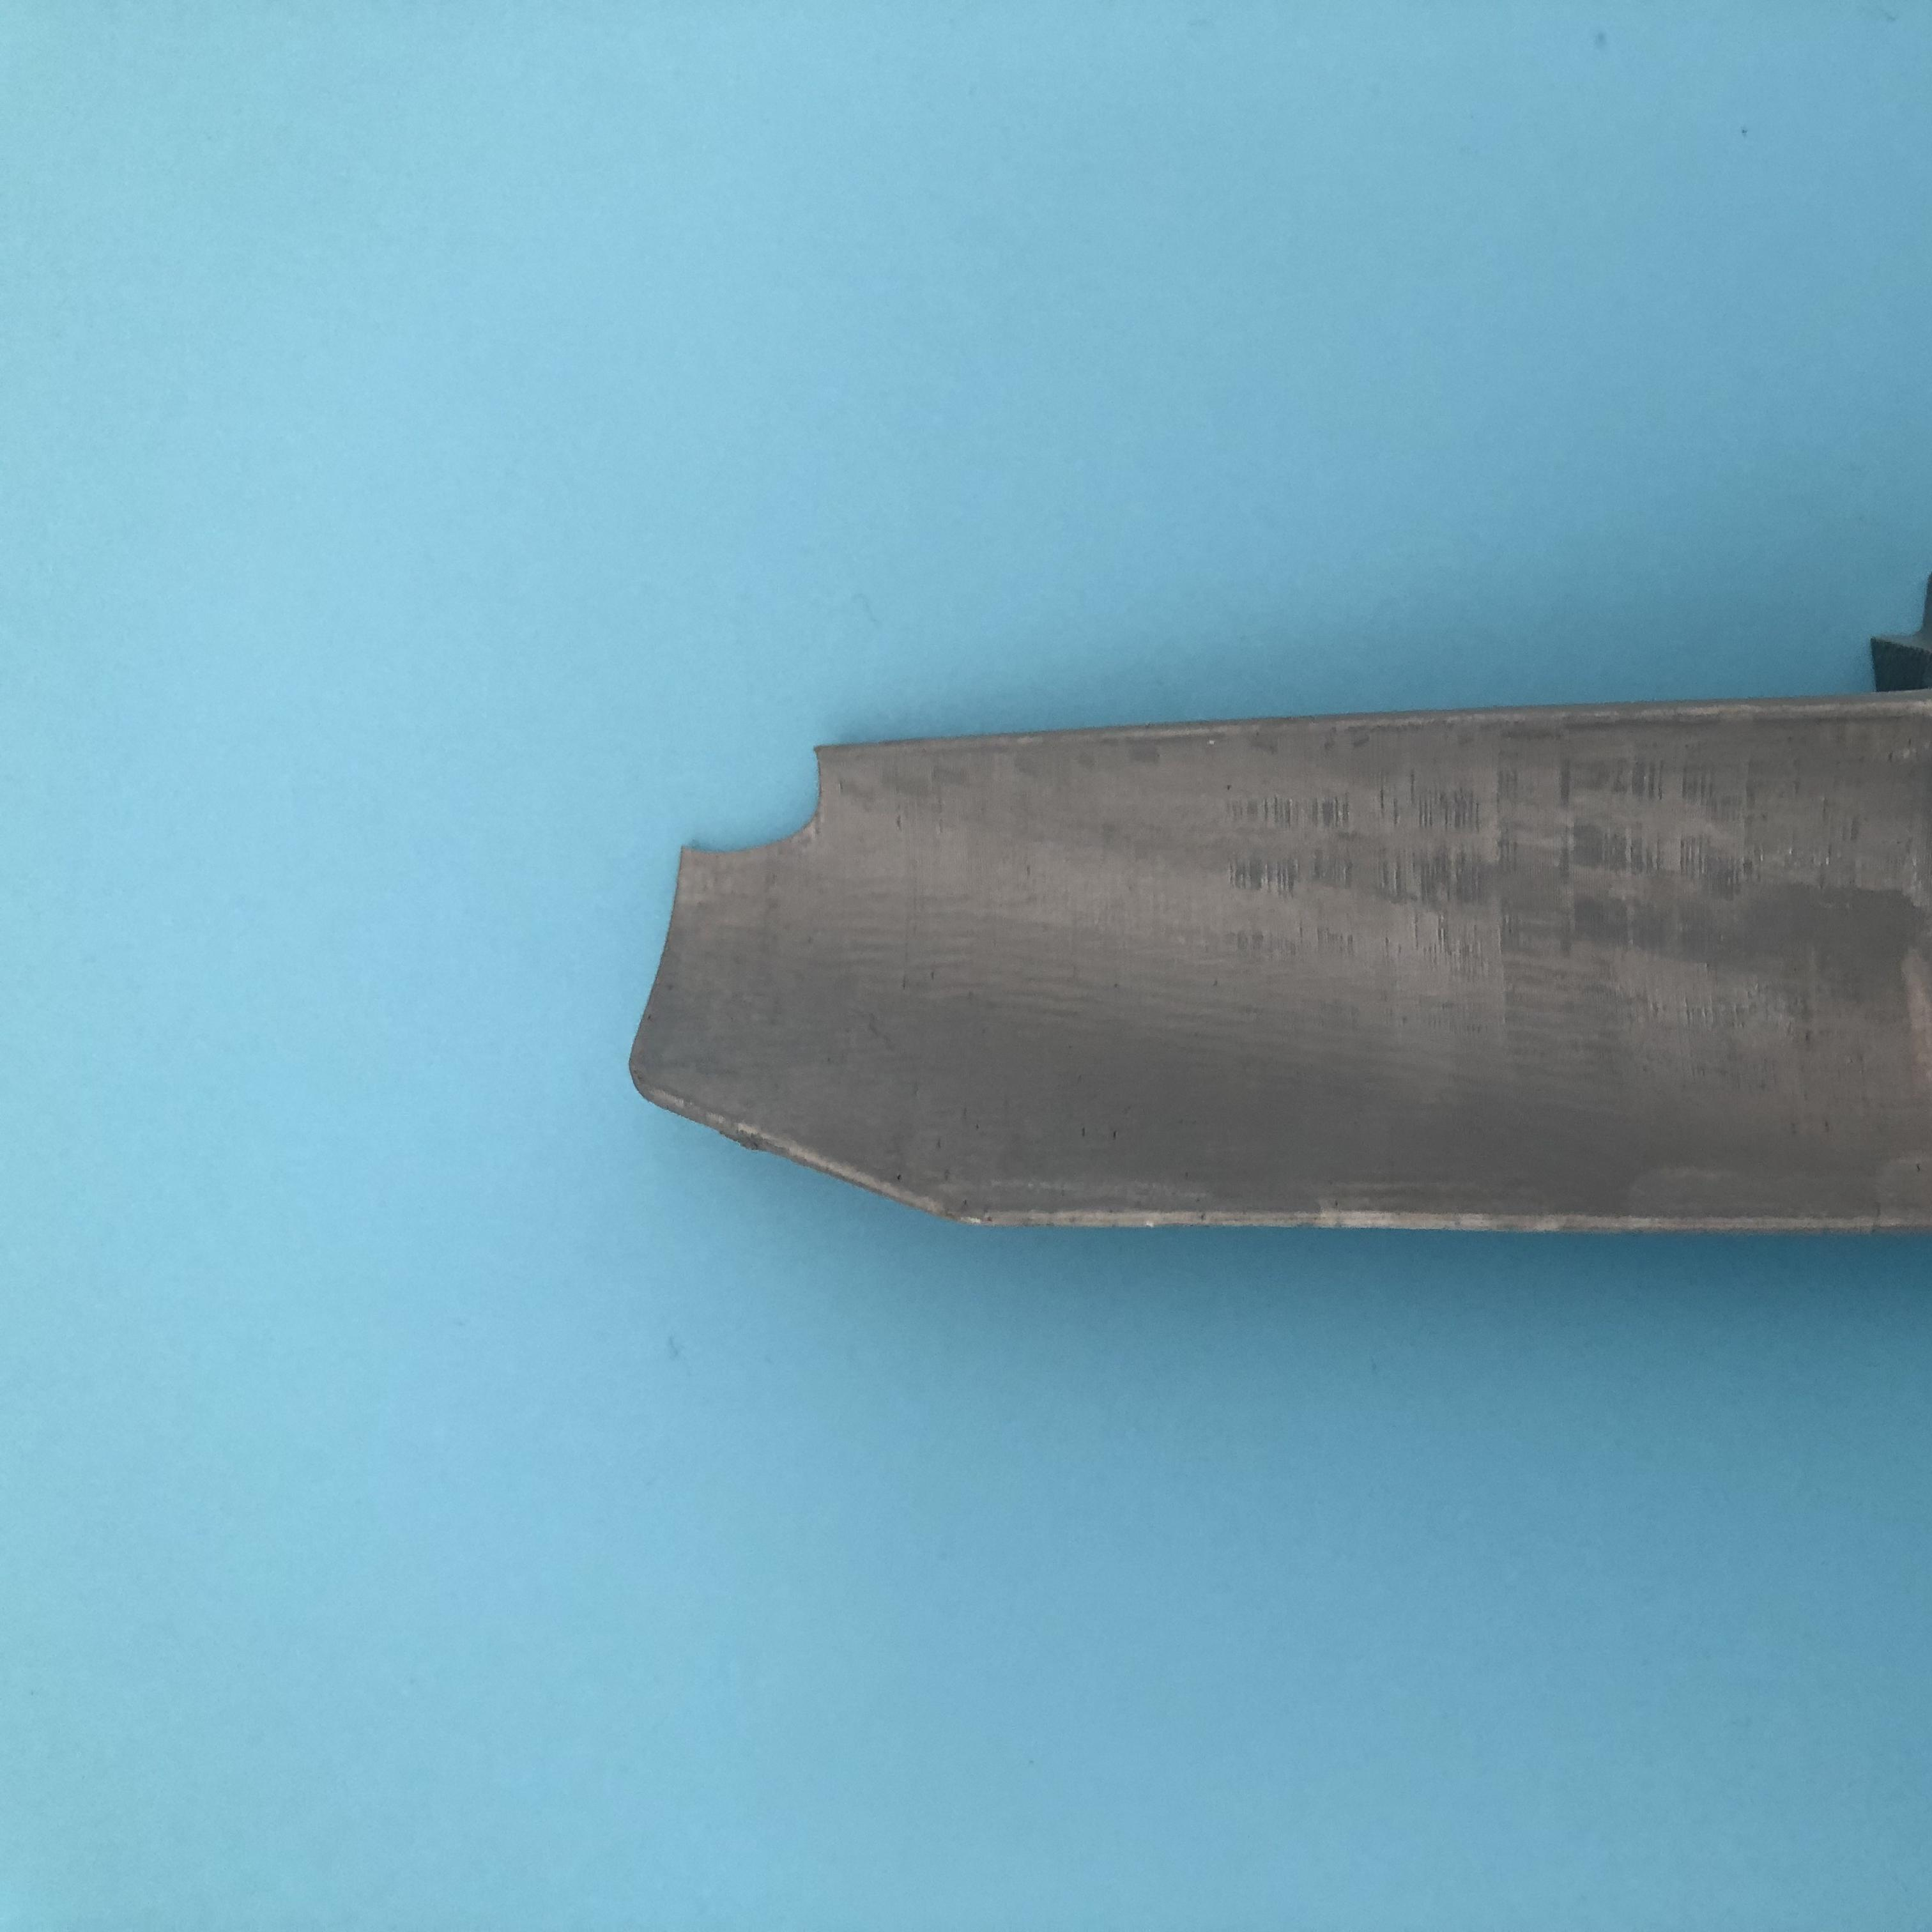fracture: (679, 748, 856, 863)
